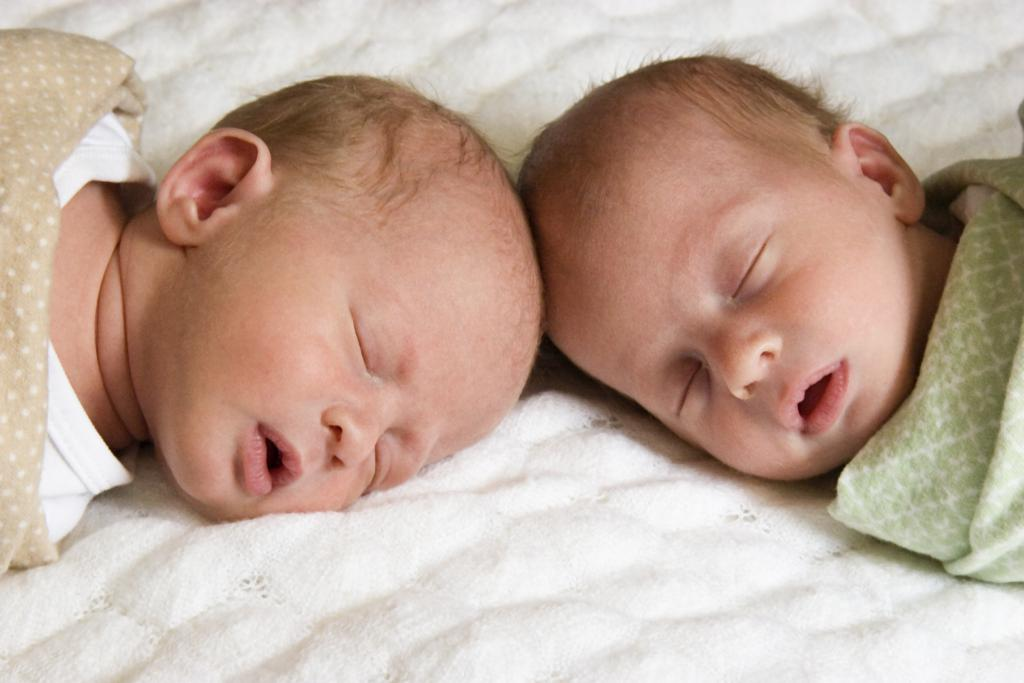Human-face: (139, 187, 514, 520), (565, 152, 929, 486)
